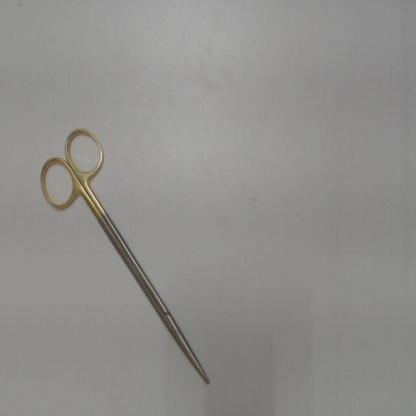7 Metzenbaum Scissors: (38, 122, 216, 393)
